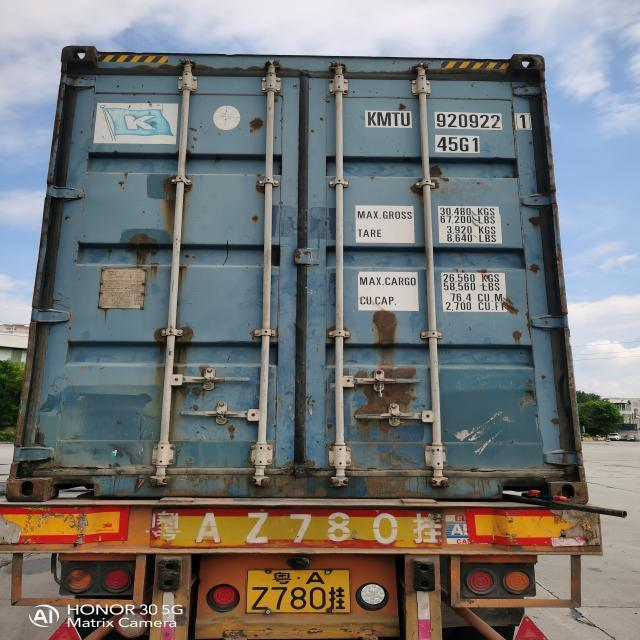ISO: (437, 136, 483, 154)
container_number: (366, 111, 531, 131)
